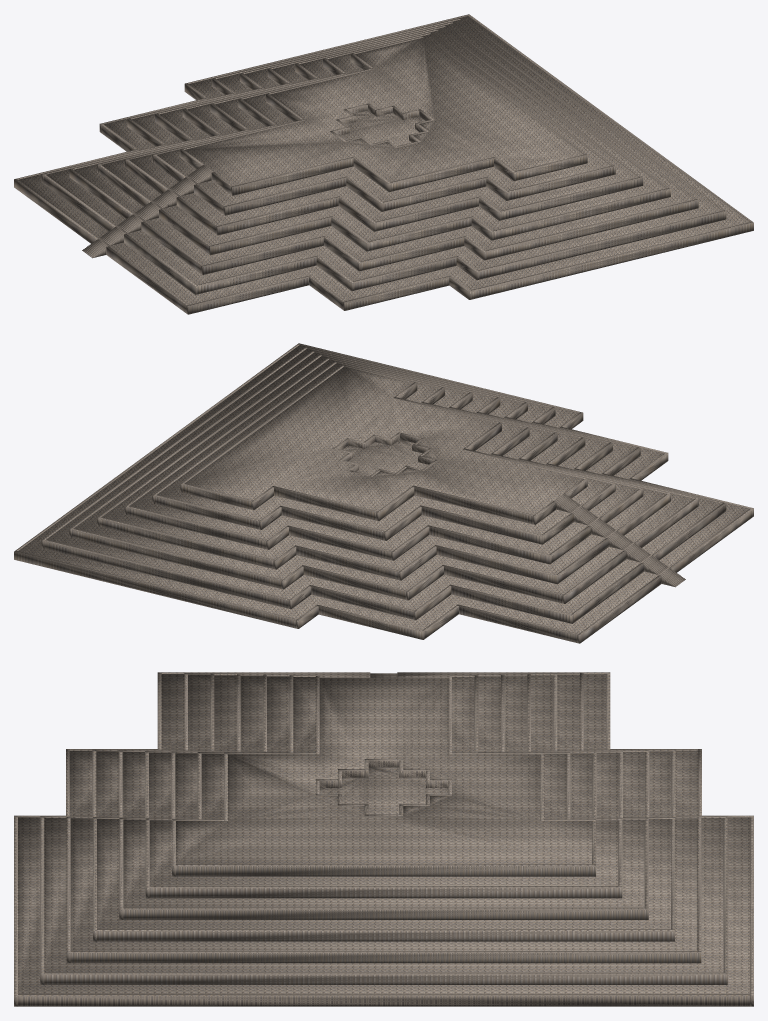
Rendered from pira.glb.
The picture shows the model from 3 angles, top to bottom: view 1: azimuth 30°, elevation 25°; view 2: azimuth 150°, elevation 25°; view 3: azimuth 270°, elevation 25°; orthographic projection. The views are drawn at different scales.
Visible parts, largest first — view 1: Fer 1.196; view 2: Fer 1.196; view 3: Fer 1.196.
Boxes of the visible parts, x1,y1,x2,y2 form: Fer 1.196: (14,14,753,314); Fer 1.196: (14,343,753,643); Fer 1.196: (14,672,753,1006).
Bounding box in the file's own units: 58.32 × 6.03 × 54.86.
1 material, 1 textured.
